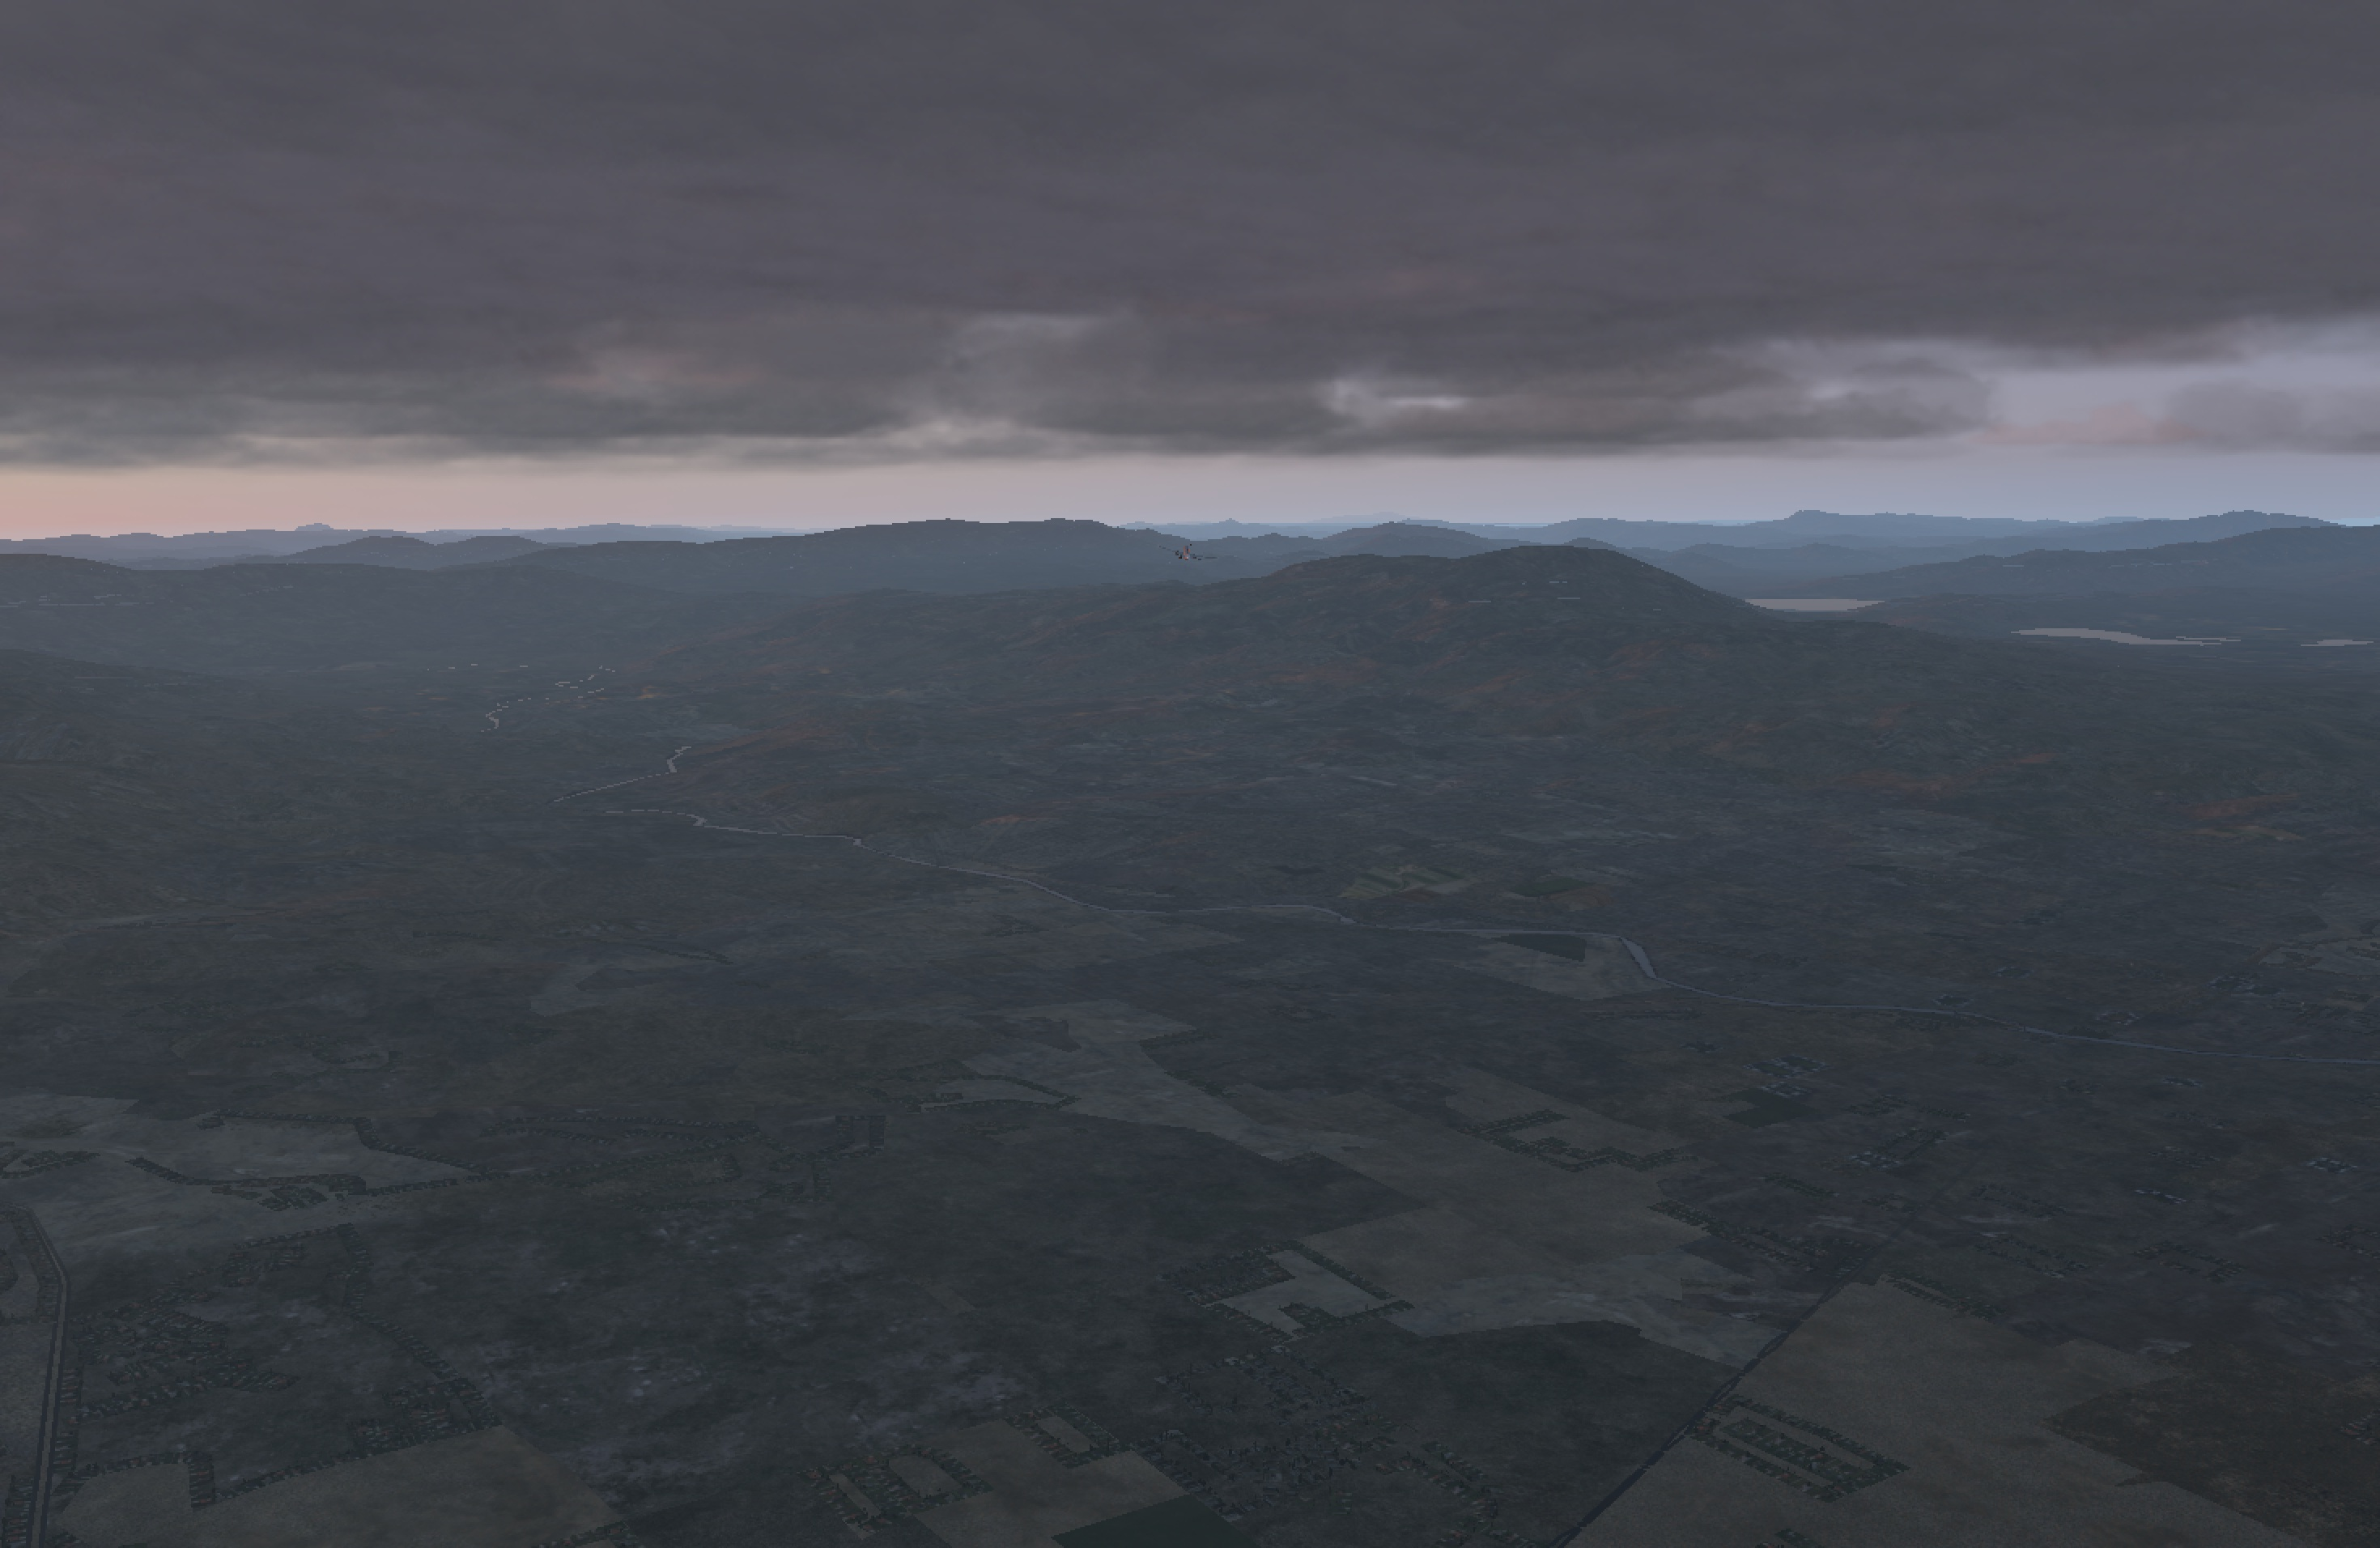aircraft: (1152, 541, 1221, 567)
